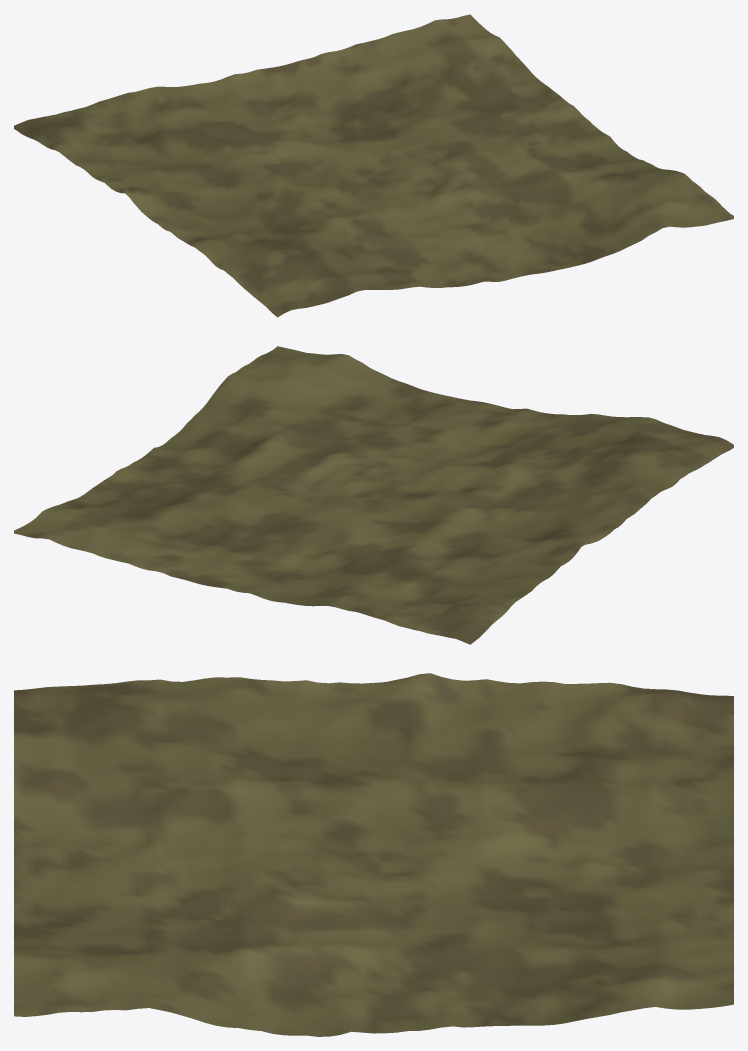
File: land_f_02_09.glb
3 views of the same model, one above another, from view 1: azimuth 30°, elevation 25°; view 2: azimuth 150°, elevation 25°; view 3: azimuth 270°, elevation 25° (orthographic). The views are drawn at different scales.
Visible parts, largest first — view 1: land_f_02_09; view 2: land_f_02_09; view 3: land_f_02_09.
Boxes of the visible parts, left/top/right/bottom form: land_f_02_09: left=14, top=14, right=733, bottom=317; land_f_02_09: left=14, top=346, right=733, bottom=644; land_f_02_09: left=14, top=673, right=733, bottom=1036.
Bounding box in the file's own units: 3840 × 362 × 3840.
